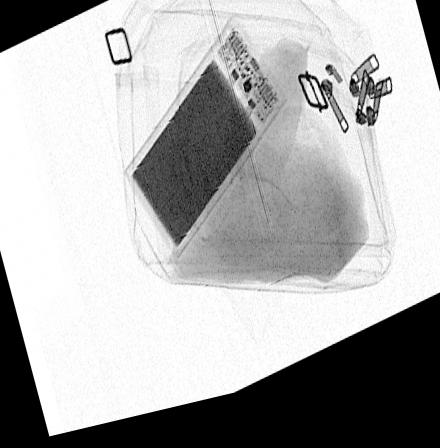Powerbank: (121, 27, 286, 267)
